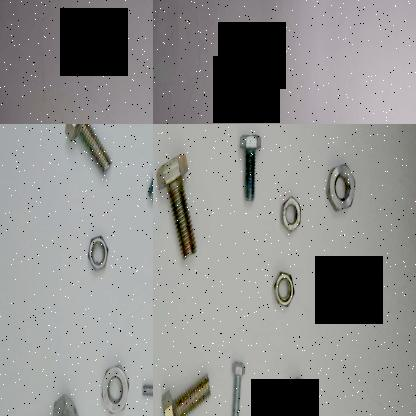Bolts: (153, 142, 203, 265), (59, 124, 117, 180), (153, 368, 214, 416), (234, 124, 266, 206), (19, 388, 87, 416), (274, 374, 312, 416), (228, 352, 248, 416), (140, 124, 153, 206), (138, 375, 153, 410)
NUTS: (325, 160, 363, 219), (96, 359, 134, 416), (272, 268, 304, 313), (84, 231, 112, 280), (277, 190, 301, 238)
